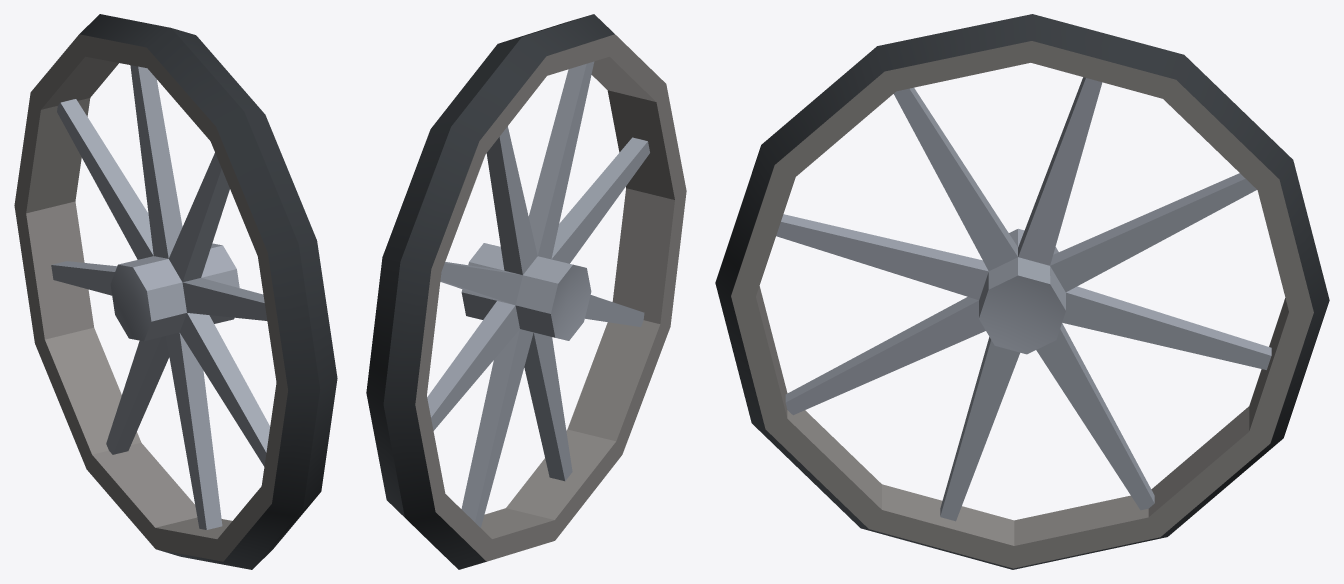
The model's file is SM_Prop_Cart_Tray_Wheel_rr.glb.
3 renders of one model, left to right at view 1: azimuth 30°, elevation 25°; view 2: azimuth 150°, elevation 25°; view 3: azimuth 270°, elevation 25°, orthographic. The views are drawn at different scales.
Visible parts, largest first — view 1: SM_Prop_Cart_Tray_Wheel_rr; view 2: SM_Prop_Cart_Tray_Wheel_rr; view 3: SM_Prop_Cart_Tray_Wheel_rr.
Boxes of the visible parts, x1,y1,x2,y2 form: SM_Prop_Cart_Tray_Wheel_rr: (14, 14, 337, 569); SM_Prop_Cart_Tray_Wheel_rr: (366, 14, 686, 569); SM_Prop_Cart_Tray_Wheel_rr: (715, 14, 1329, 569).
Size of the model in its own units: 0.1061 by 0.588 by 0.5889.
1 material, 1 textured.
